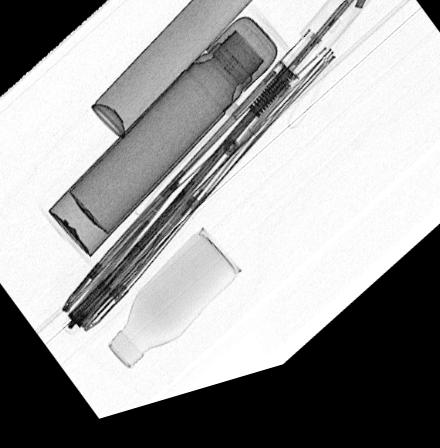Sprayer: (89, 0, 266, 145)
